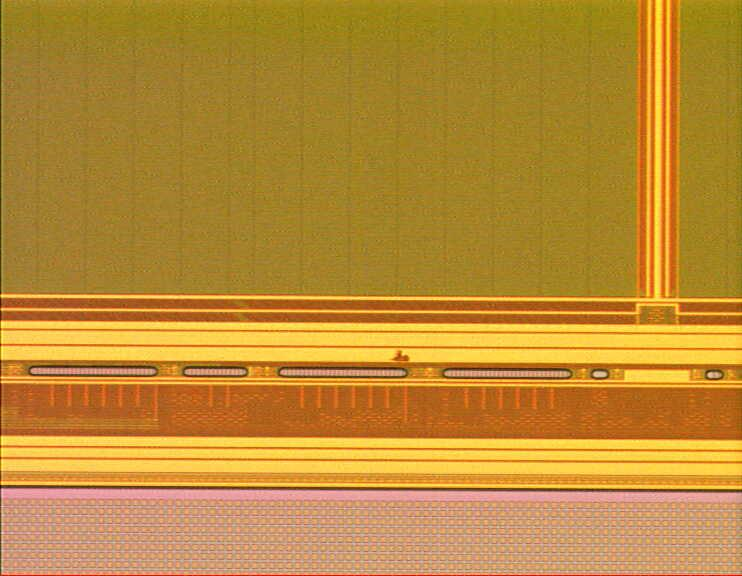PIQ PARTICLE: (387, 341, 415, 369)
